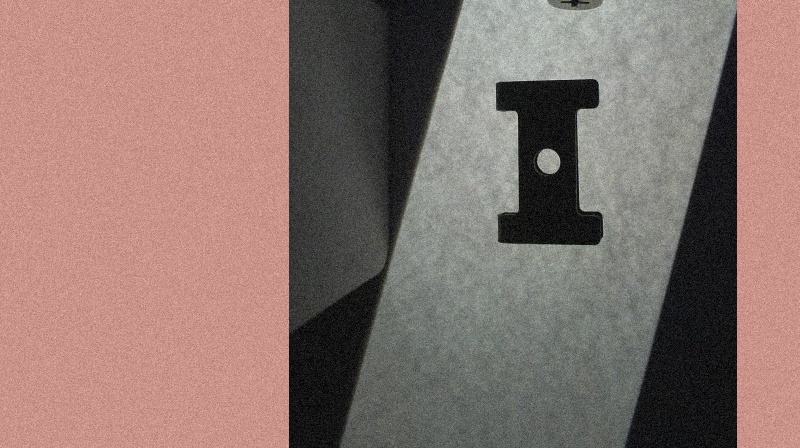O002: (489, 74, 607, 248)
S001: (547, 0, 606, 14)
